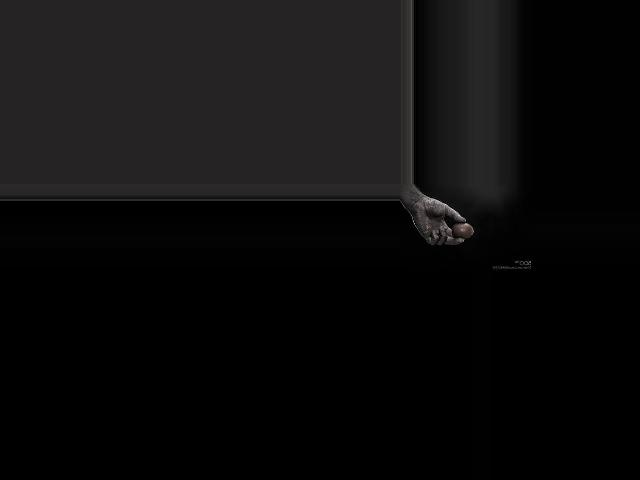egg: (450, 222, 472, 238)
